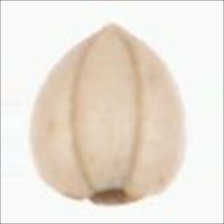L5: (70, 23, 138, 193), (65, 183, 148, 208)
L6: (24, 24, 185, 209)
